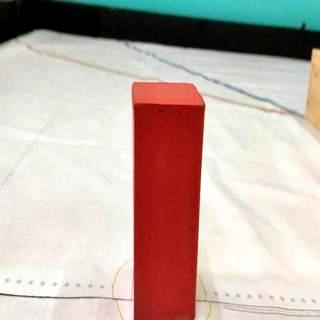redbox: (131, 80, 206, 320)
